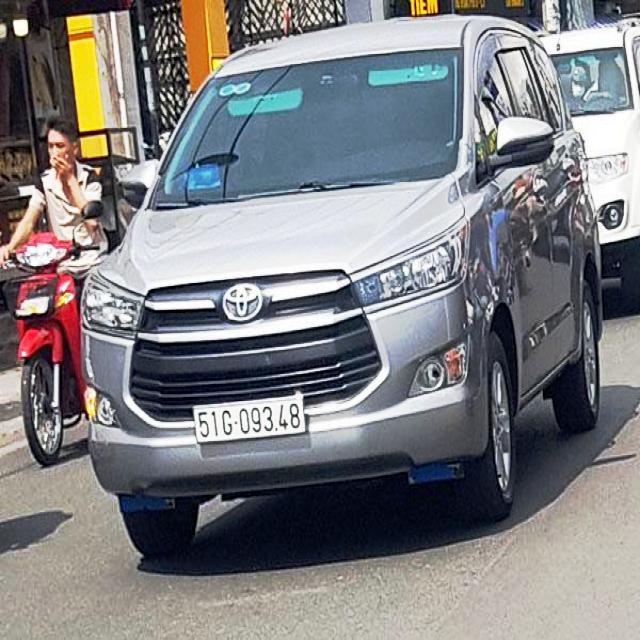license_plate: (195, 399, 306, 445)
